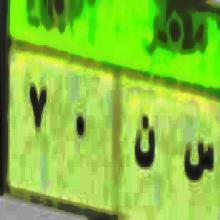0: (73, 102, 89, 152)
7: (25, 75, 49, 140)
noon: (134, 110, 156, 180)
seen: (184, 126, 214, 190)
